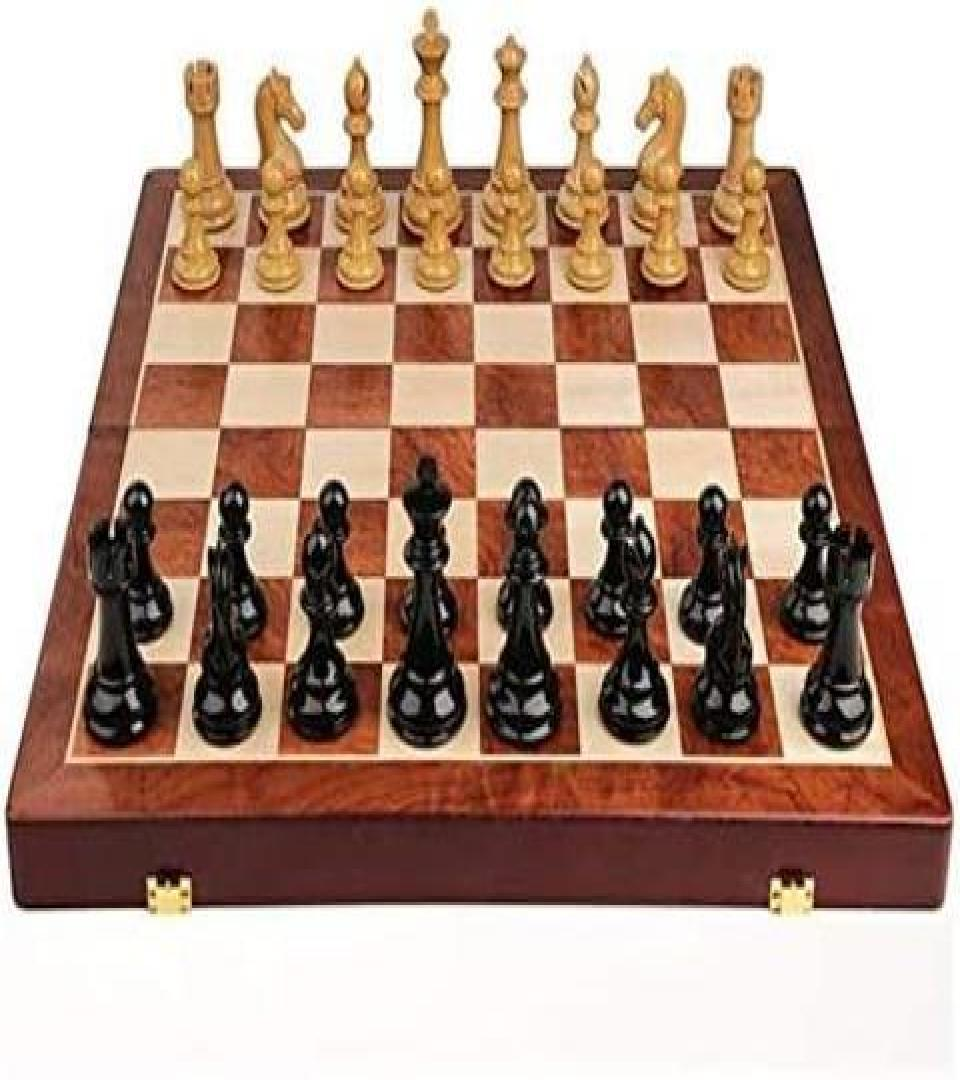xcorner: (634, 410, 660, 450), (548, 410, 574, 450), (462, 410, 488, 450), (460, 226, 486, 266), (383, 226, 409, 266), (296, 342, 322, 382), (307, 226, 333, 266), (213, 342, 239, 382), (759, 645, 785, 684), (745, 561, 771, 600), (732, 483, 758, 522), (720, 412, 746, 451), (698, 285, 724, 324), (662, 645, 688, 684), (652, 561, 678, 600), (642, 483, 668, 522), (613, 228, 639, 267), (564, 645, 590, 684), (558, 559, 584, 598), (553, 483, 579, 522), (544, 344, 570, 383), (536, 228, 562, 267), (466, 645, 492, 684), (465, 559, 491, 598), (462, 344, 488, 383), (368, 644, 394, 683), (371, 559, 397, 598), (376, 409, 402, 448), (379, 344, 405, 383), (381, 282, 407, 321), (269, 644, 295, 683), (277, 558, 303, 597), (290, 409, 316, 448), (302, 282, 328, 321), (171, 644, 197, 683), (183, 558, 209, 597), (194, 480, 220, 519), (204, 409, 230, 448), (222, 282, 248, 321), (230, 225, 256, 264), (709, 346, 735, 384), (689, 230, 715, 268), (626, 346, 652, 384), (619, 284, 645, 322), (540, 284, 566, 322), (463, 482, 489, 520), (461, 284, 487, 322), (374, 482, 400, 520), (284, 482, 310, 520)
